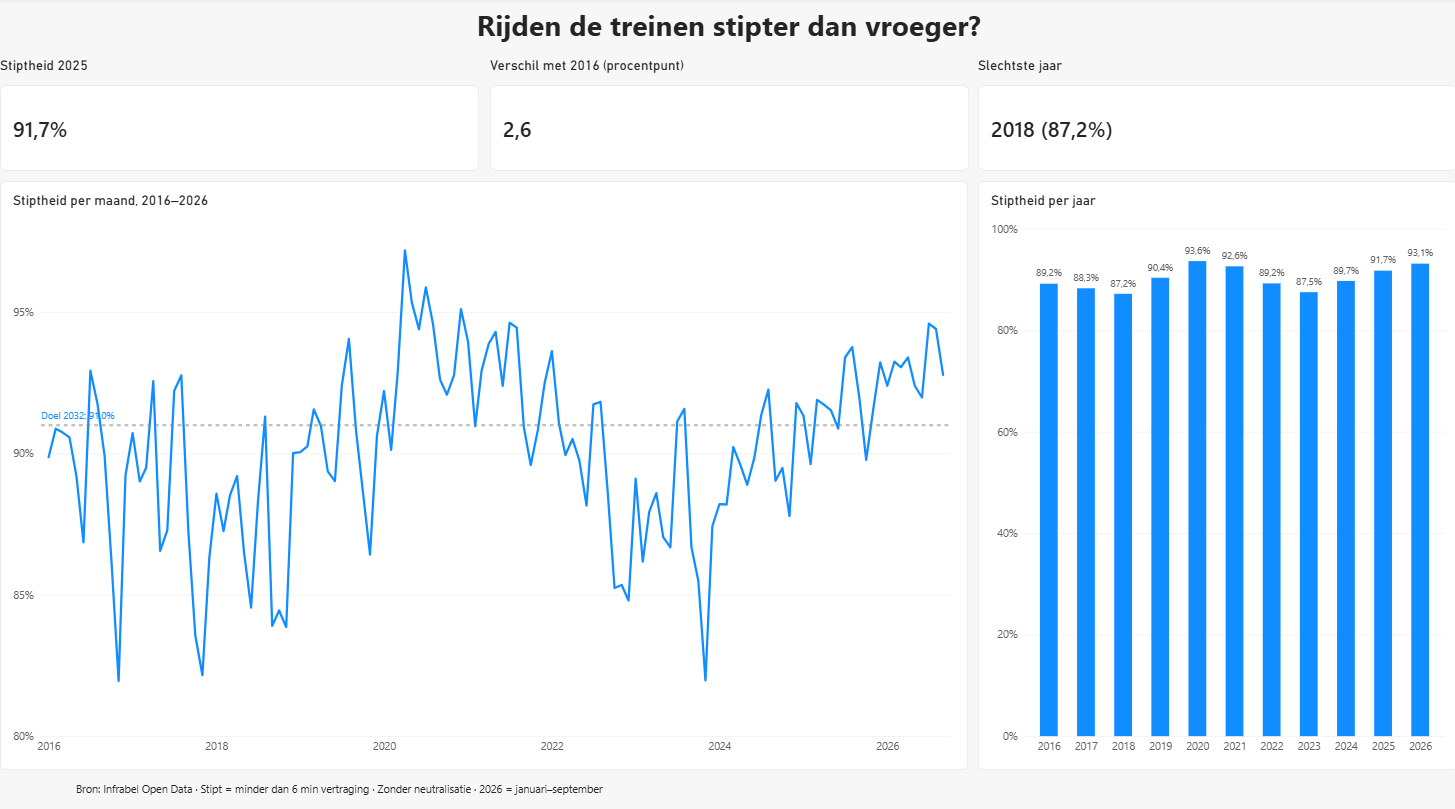

What the dashboard file says about the page in this screenshot:
{"tool":"powerbi","page":{"name":"Trend","canvas":[1920,1080],"ordinal":0},"visuals":[{"type":"lineChart","title":"Stiptheid per maand, 2016–2026","fields":{"Category":["Stiptheid_Maand.Maand"],"Y":["Stiptheid_Maand.Stiptheid %"]},"box":[0,240.7,1275.1,776.2],"z":0},{"type":"clusteredColumnChart","title":"Stiptheid per jaar","fields":{"Category":["Stiptheid_Maand.Jaar"],"Y":["Stiptheid_Maand.Stiptheid %"]},"box":[1288.3,240.7,631.7,776.2],"z":1},{"type":"textbox","box":[0,0,1920,77.3],"z":2},{"type":"cardVisual","title":"Stiptheid 2025","fields":{"Data":["Stiptheid_Maand.Stiptheid %"]},"box":[0,77.3,631,150.3],"z":3},{"type":"cardVisual","title":"Verschil met 2016 (procentpunt)","fields":{"Data":["Stiptheid_Maand.Verschil 2016-2025"]},"box":[644.9,77.3,631,150.3],"z":4},{"type":"cardVisual","title":"Slechtste jaar","fields":{"Data":["Stiptheid_Maand.Slechtste jaar"]},"box":[1288.3,77.3,631.7,150.3],"z":5},{"type":"textbox","box":[100.7,1032.9,859.3,46.7],"z":6}]}

Visuals, with their boxes in screenshot pixels (x1, y1, x2, y2), scaled from the page's 1920x1080 canvas onto the 1455x809 screenshot:
"Stiptheid per maand, 2016–2026" lineChart: select_region(0, 180, 966, 762)
"Stiptheid per jaar" clusteredColumnChart: select_region(976, 180, 1454, 762)
textbox: select_region(0, 0, 1454, 58)
"Stiptheid 2025" cardVisual: select_region(0, 58, 478, 170)
"Verschil met 2016 (procentpunt)" cardVisual: select_region(489, 58, 967, 170)
"Slechtste jaar" cardVisual: select_region(976, 58, 1454, 170)
textbox: select_region(76, 774, 728, 808)
